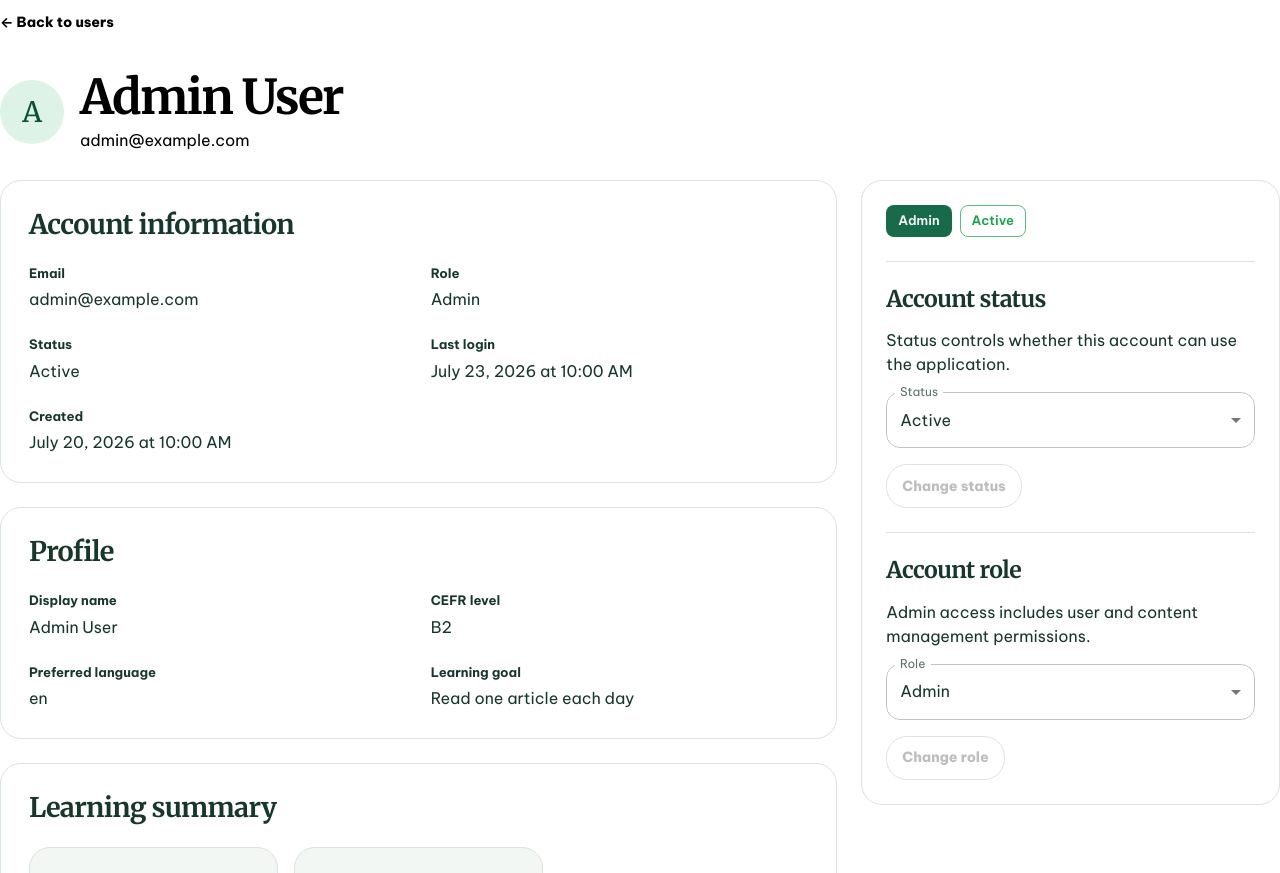
it: Admin user change confirmation › shows the backend conflict message when a role change is rejected
Check: the heading "Admin User" is shown, box [80,72,343,124]
Click the dropdown named "Role" at (925, 691), box [900,681,950,701]
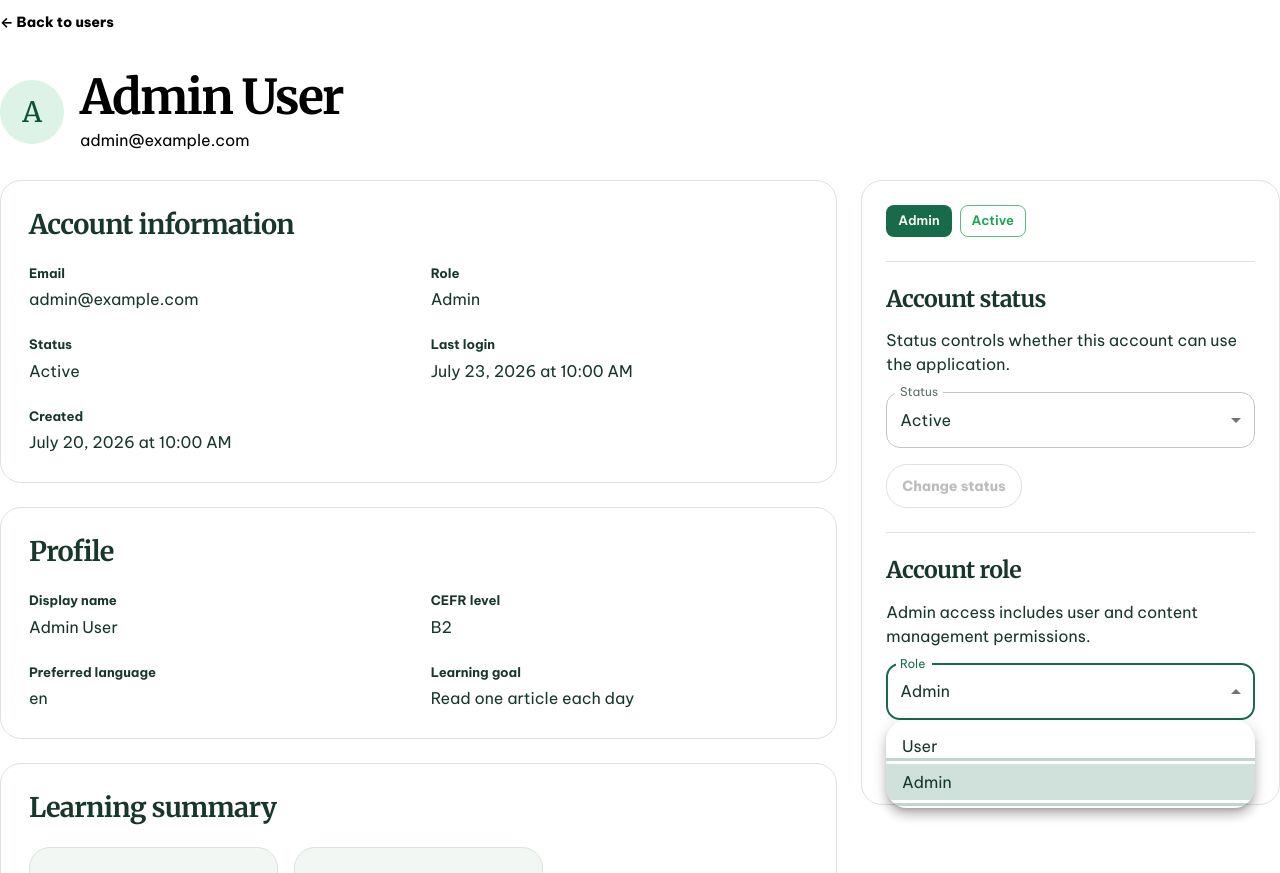
Click the option "User" at (920, 746), box [902,736,937,756]
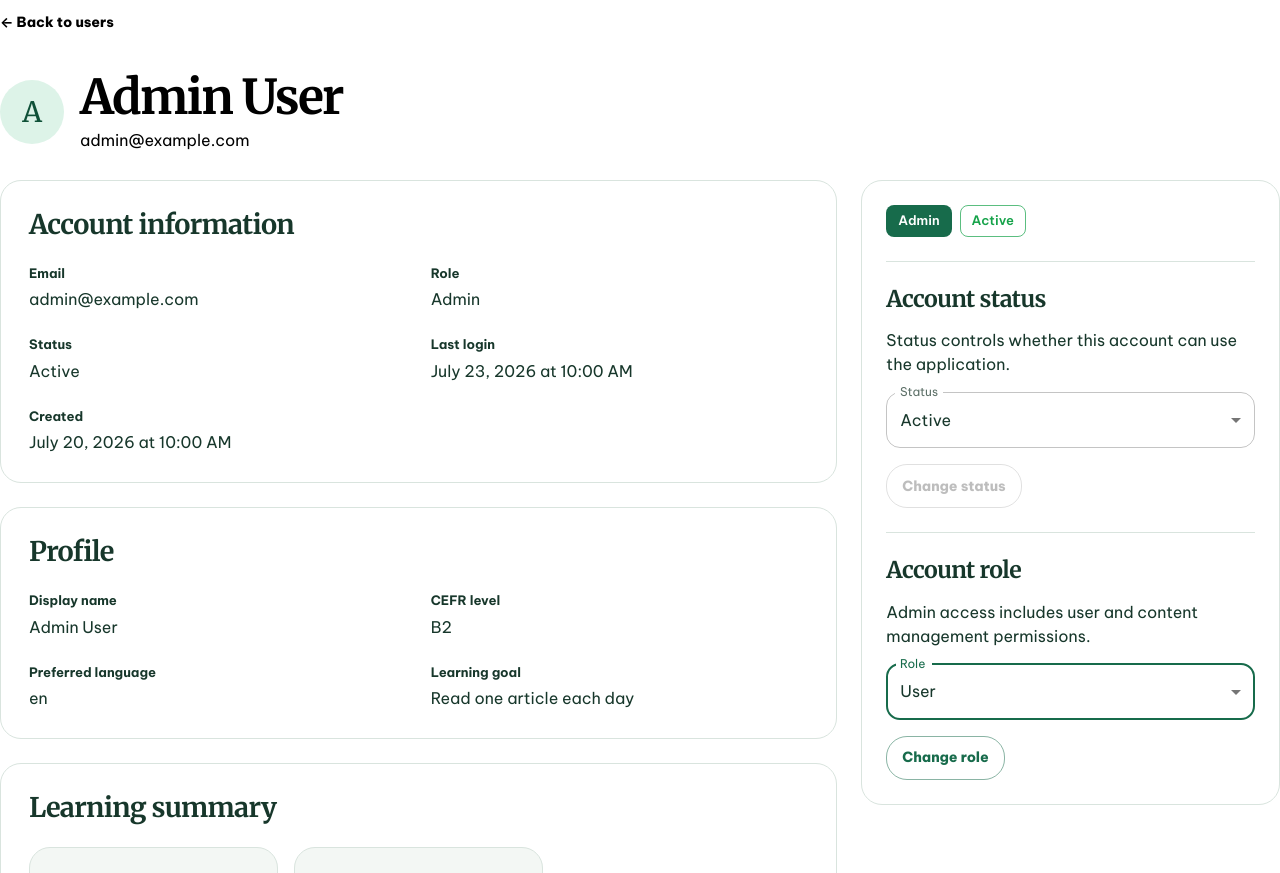
Click the button "Change role" at (945, 758), box [886,736,1005,780]
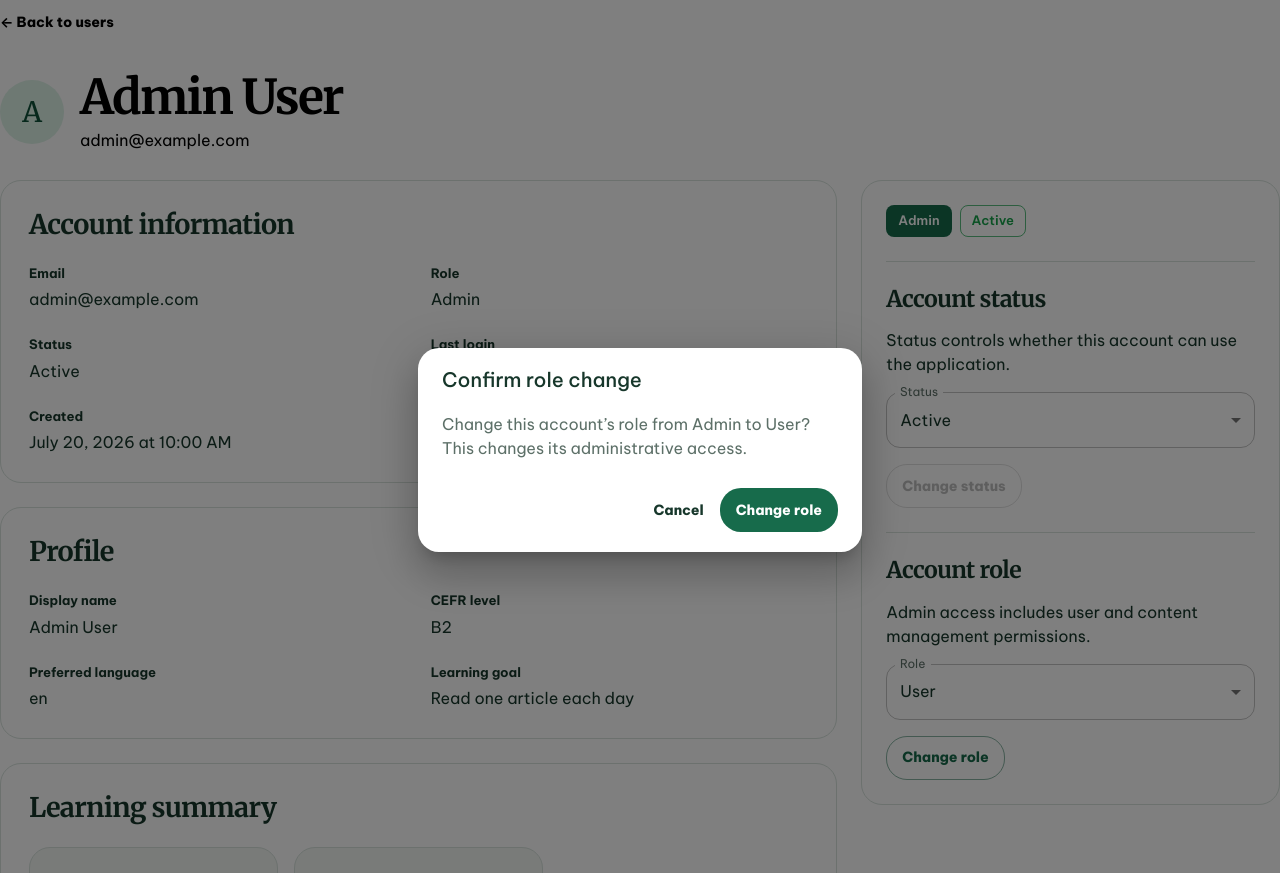
Click the button "Change role" at (779, 510), box [720,488,838,532]
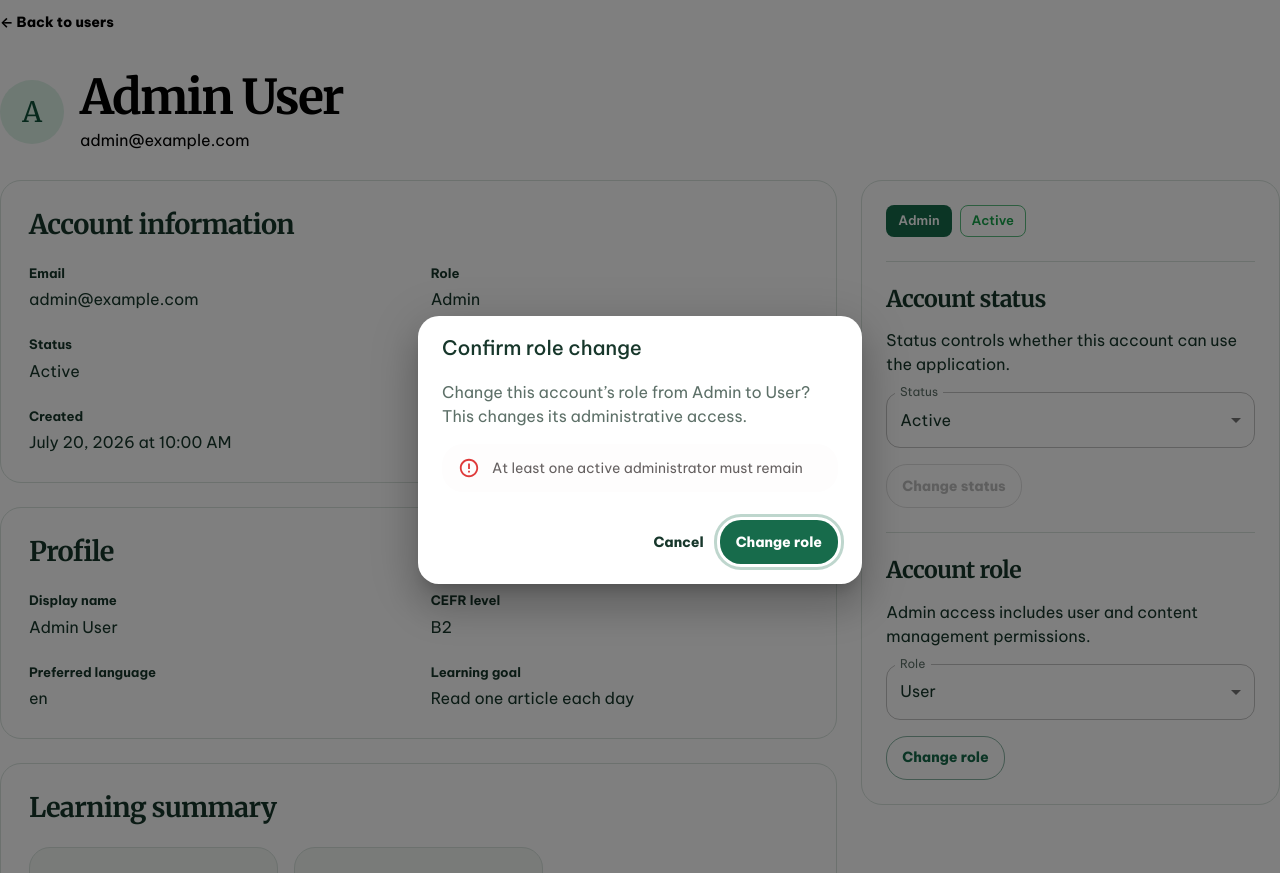
Check: the text "At least one active administrator must remain" is shown, box [492,459,803,477]
